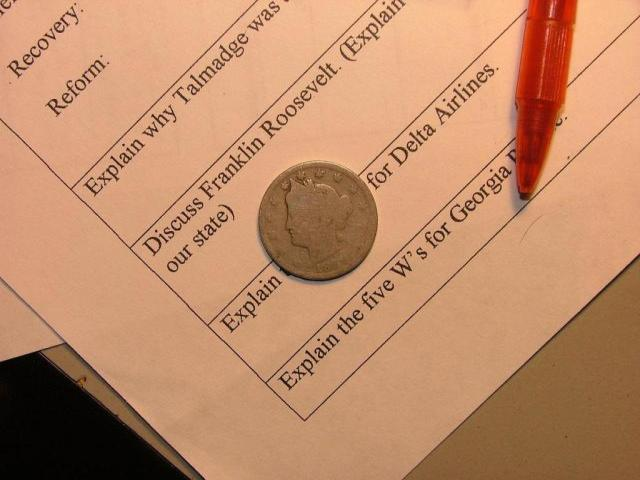PEN: (481, 3, 601, 212)
